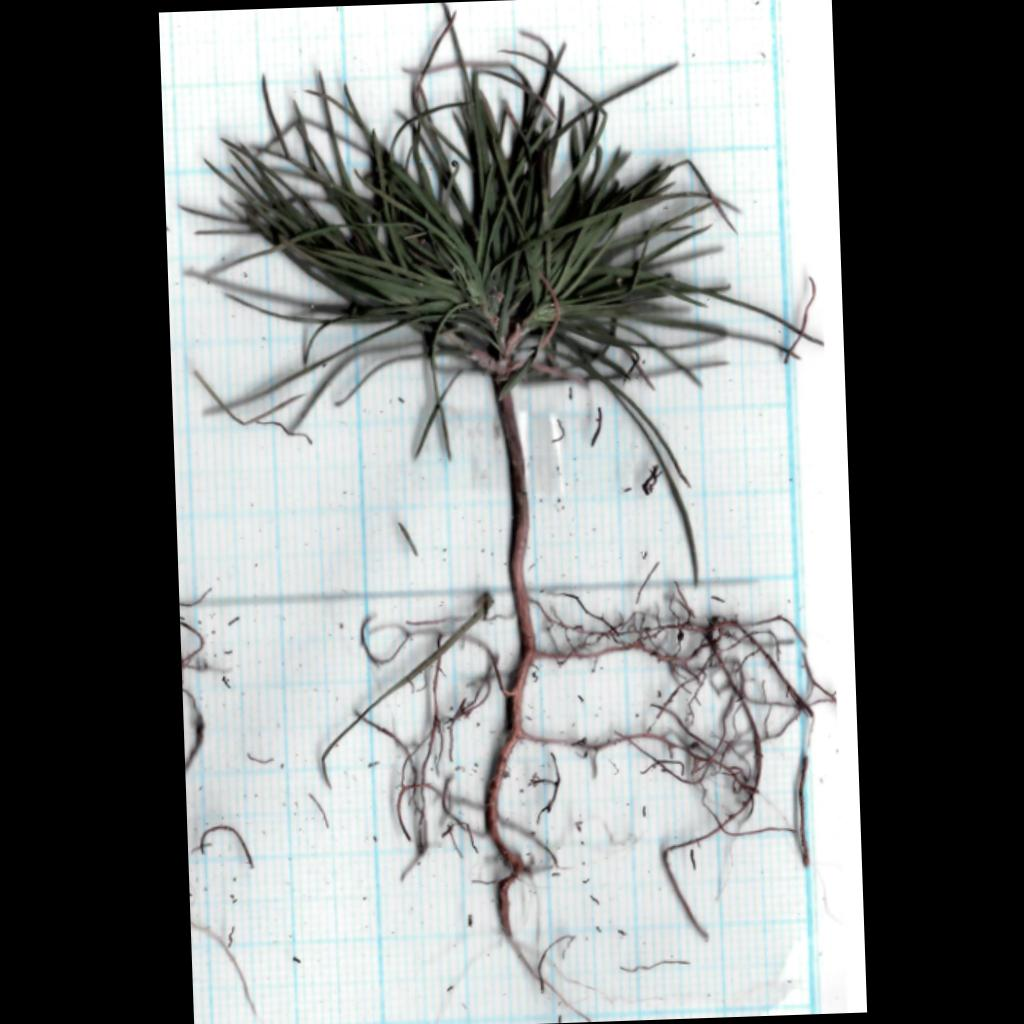flowerCedr: (183, 7, 820, 574)
rootCedr: (321, 579, 836, 986)
stemCedr: (496, 393, 530, 584)
